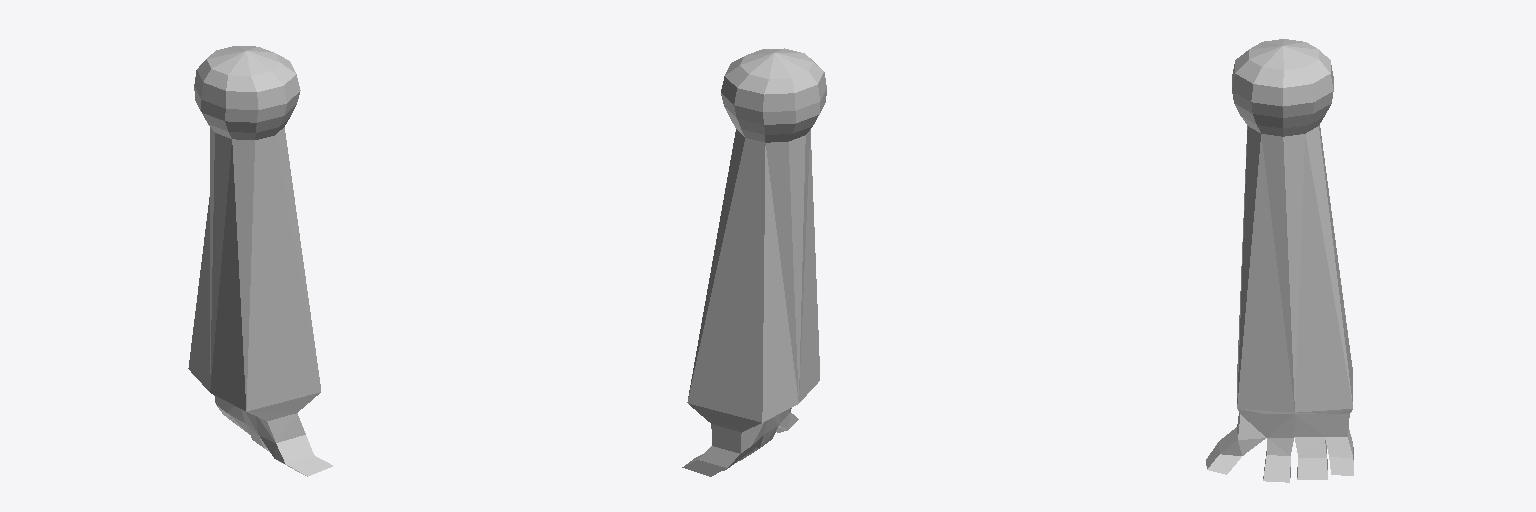
Rendered from MainCharForearm.obj.
3 renders of one model, left to right at view 1: azimuth 30°, elevation 25°; view 2: azimuth 150°, elevation 25°; view 3: azimuth 270°, elevation 25°, orthographic.
Size of the model in its own units: 0.4376 by 1.61 by 0.5264.